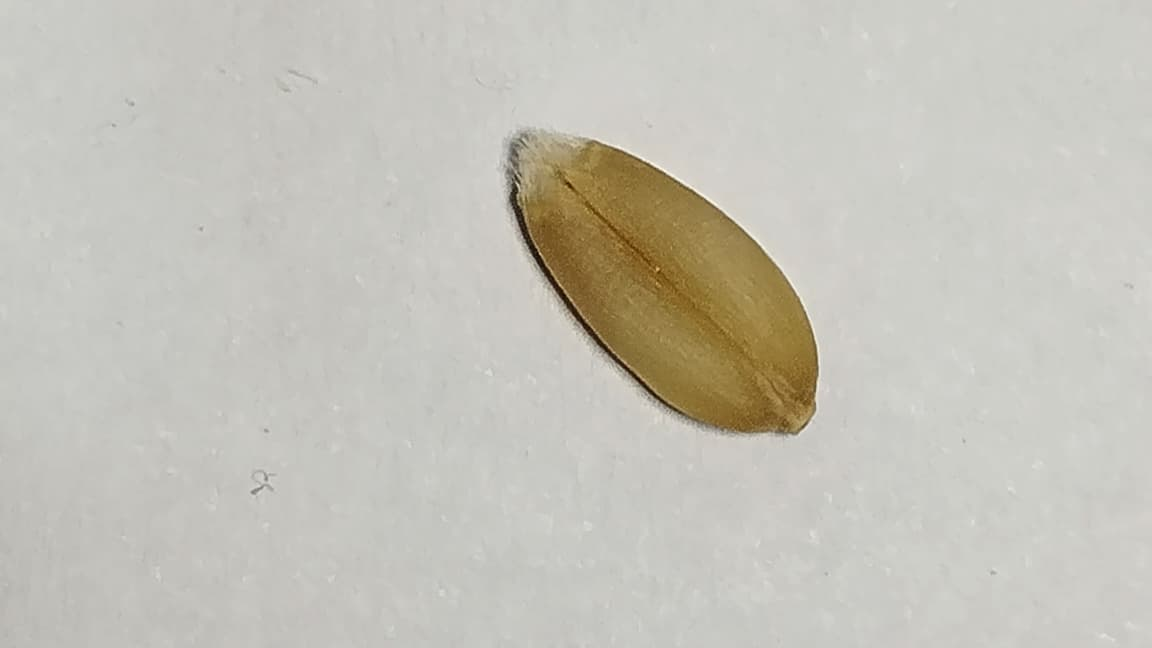healthy: (505, 128, 819, 435)
